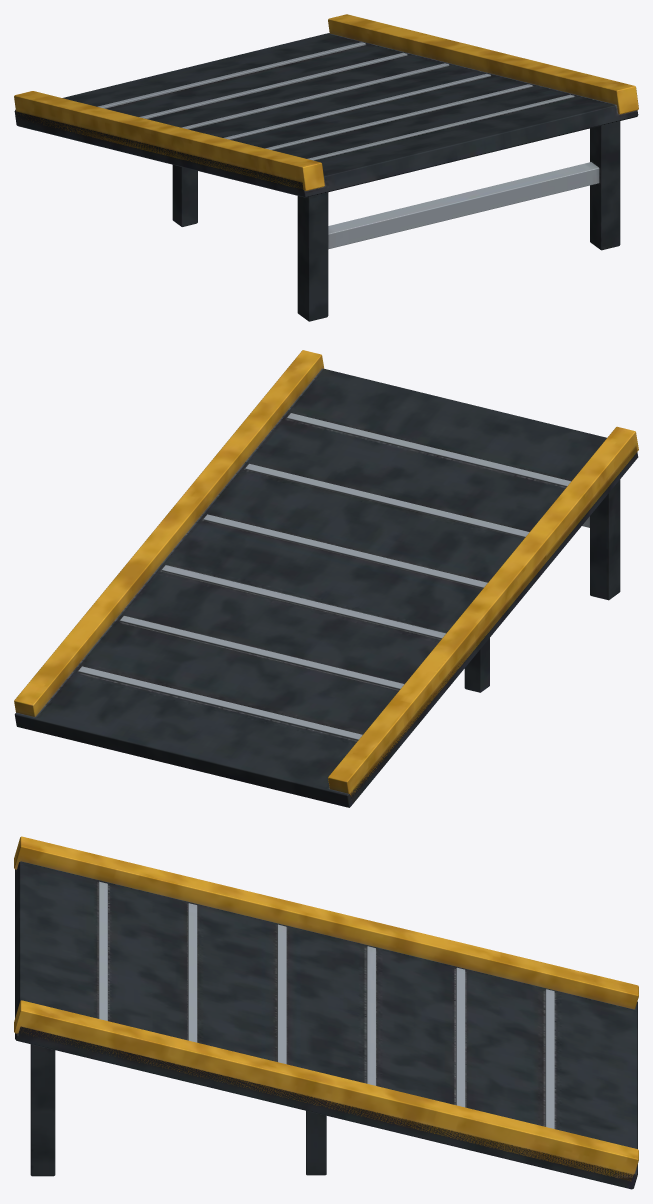
File: scrap_ramp.glb
The picture shows the model from 3 angles, top to bottom: view 1: azimuth 30°, elevation 25°; view 2: azimuth 150°, elevation 25°; view 3: azimuth 270°, elevation 25°; orthographic projection. The views are drawn at different scales.
Parts seen in each view (by area): view 1: ScrapRamp; view 2: ScrapRamp; view 3: ScrapRamp.
Part boxes in pixels (left/top/right/bottom): ScrapRamp: left=14, top=14, right=638, bottom=321; ScrapRamp: left=14, top=350, right=638, bottom=807; ScrapRamp: left=14, top=836, right=638, bottom=1189.
Bounding box in the file's own units: 4 × 1.93 × 6.06.
1 material, 1 textured.
